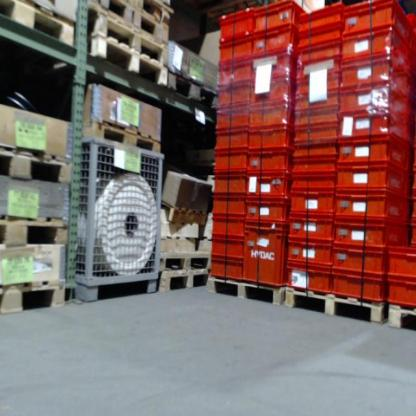pallet: (90, 35, 169, 90), (284, 286, 386, 326), (91, 11, 166, 61), (82, 117, 160, 155), (0, 145, 74, 184), (210, 274, 286, 307), (97, 2, 166, 38), (168, 69, 218, 114), (0, 216, 69, 248), (0, 281, 66, 313), (158, 269, 211, 293), (159, 252, 213, 272), (388, 303, 416, 333)
small_load_carrier: (338, 26, 410, 90), (342, 0, 413, 43), (242, 221, 288, 286), (342, 188, 405, 219), (341, 137, 405, 166), (334, 243, 387, 276), (339, 90, 407, 115), (334, 219, 405, 242), (217, 9, 256, 50), (340, 166, 405, 188), (330, 276, 385, 302), (341, 116, 409, 137), (286, 239, 332, 268), (256, 1, 303, 29), (245, 198, 286, 230), (247, 80, 297, 106), (286, 268, 328, 296), (246, 127, 294, 151), (246, 151, 292, 176), (244, 176, 292, 199), (253, 29, 293, 56), (217, 35, 253, 65), (253, 56, 297, 80), (247, 105, 294, 127), (291, 213, 332, 238), (386, 246, 415, 281), (296, 91, 341, 113), (291, 124, 340, 144), (215, 84, 254, 109), (295, 24, 343, 44), (213, 129, 248, 155), (298, 5, 344, 24), (385, 281, 415, 310), (291, 172, 334, 191), (295, 44, 343, 61), (210, 238, 242, 263), (213, 155, 246, 179), (210, 257, 244, 280), (291, 194, 332, 213), (296, 61, 343, 77), (212, 200, 246, 221), (212, 179, 246, 200), (291, 144, 338, 159), (217, 65, 254, 83), (296, 77, 341, 91), (215, 111, 246, 131), (210, 221, 246, 238), (291, 160, 337, 172), (296, 113, 340, 124)
stillage: (70, 132, 165, 306)
